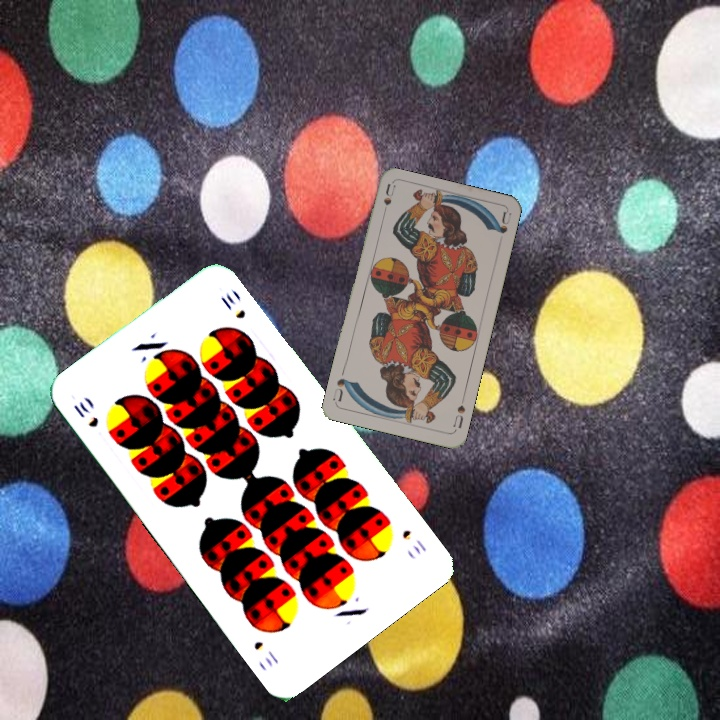S10: (69, 397, 101, 430), (398, 525, 430, 557)
SU: (378, 181, 398, 222), (449, 393, 468, 431)
